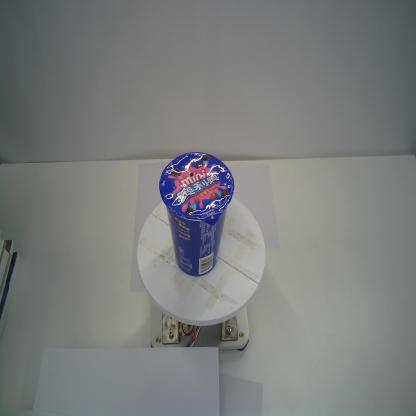Dessert: (158, 152, 235, 277)
